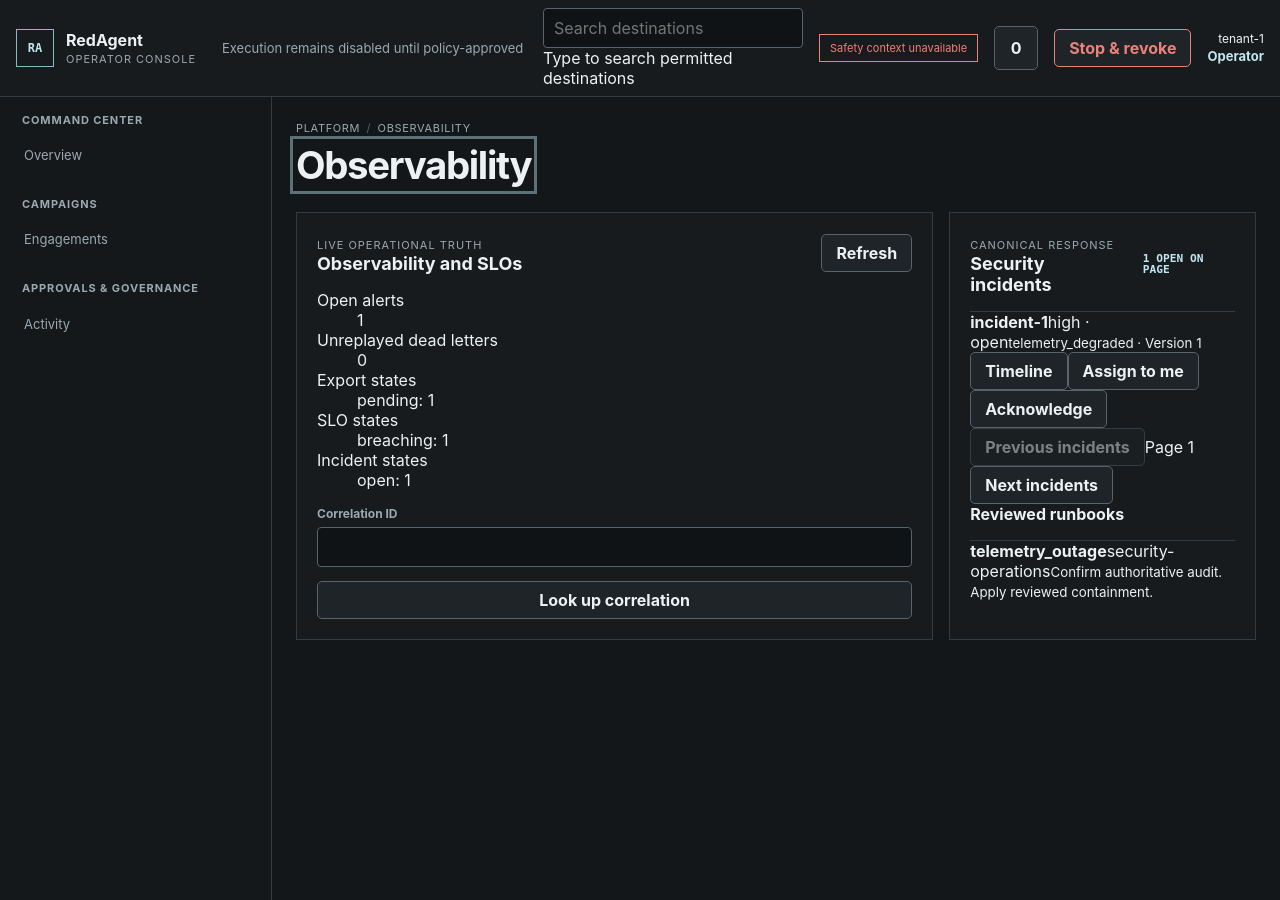
shows SLO/export/incident truth, correlation, timeline, and confirmed acknowledgement
The width and height of the screenshot is (1280, 900).
Expected: the heading "Observability and SLOs" is shown, [317,253,522,274]
Expected: the text "breaching: 1" is shown, [357,430,448,450]
Type "correlation-1" into the field labelled "Correlation ID".
click(615, 547); type("correlation-1")  # box [317,527,912,567]
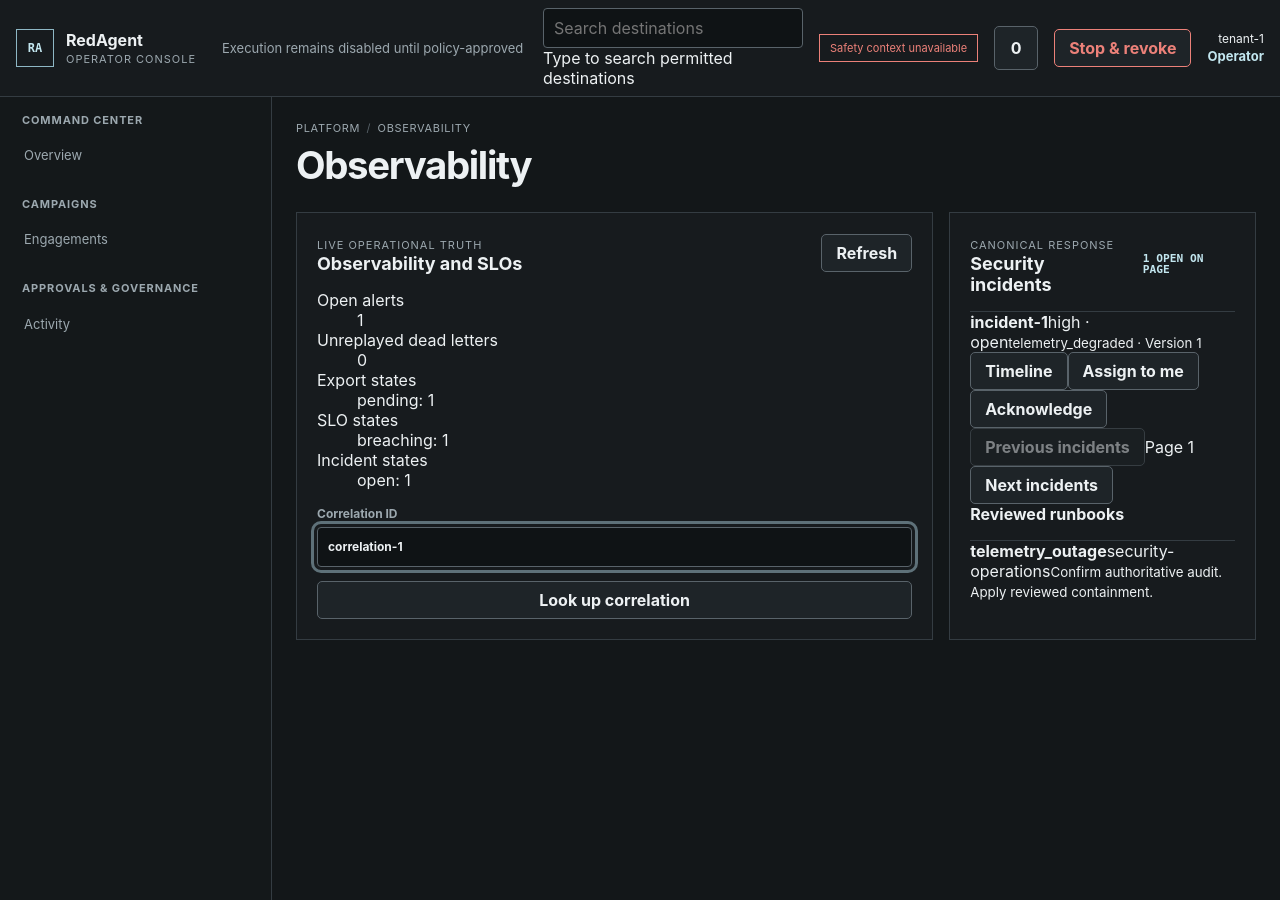
Click the button "Look up correlation".
click(615, 600)  # box [317,581,912,619]
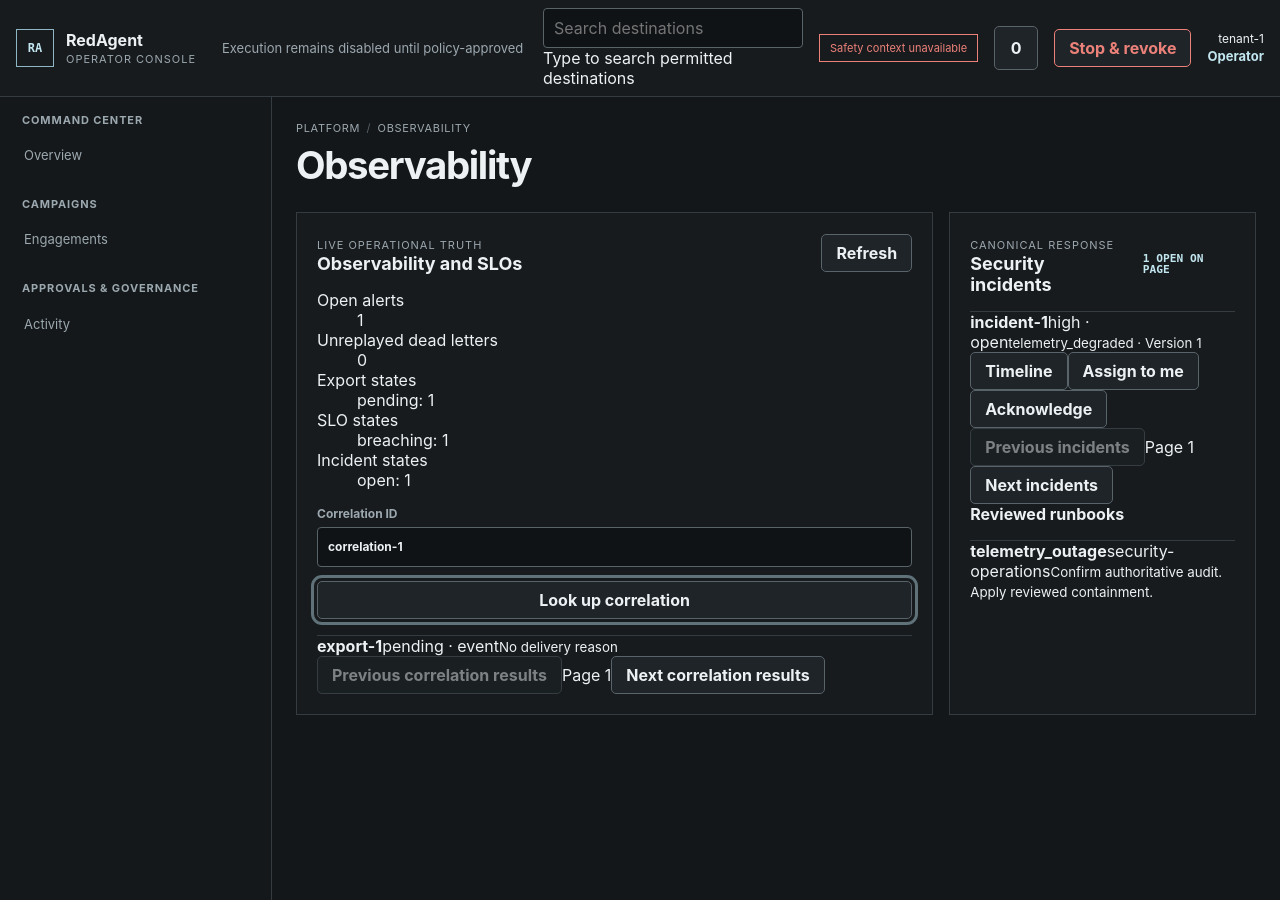
Result: the text "export-1" is shown at [317,636,382,656]
Click the button "Timeline".
click(1019, 371)  # box [970,352,1068,390]
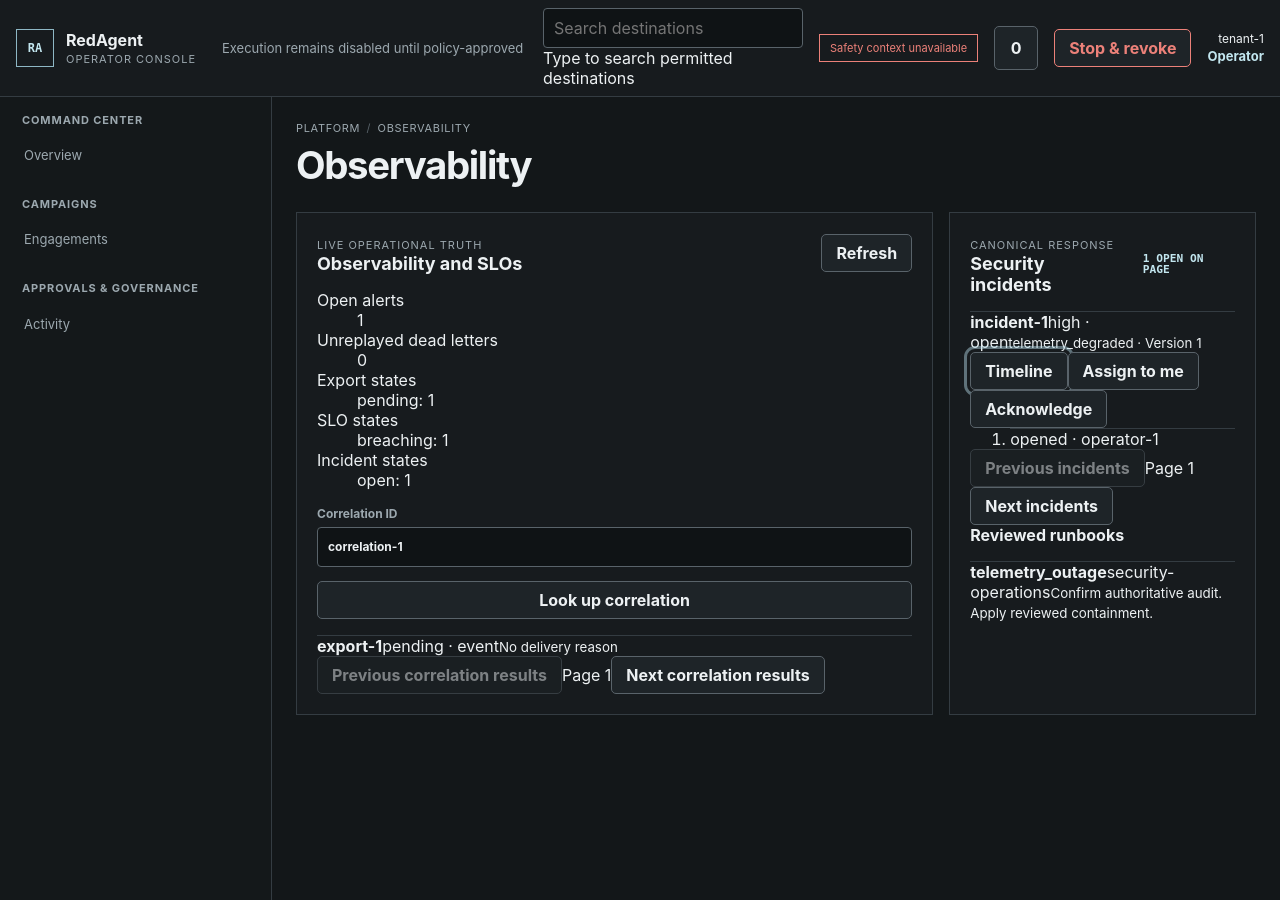
Result: the list item "opened · operator-1" is shown at [1010,428,1235,449]
Click the button "Acknowledge".
click(1039, 409)  # box [970,390,1107,428]
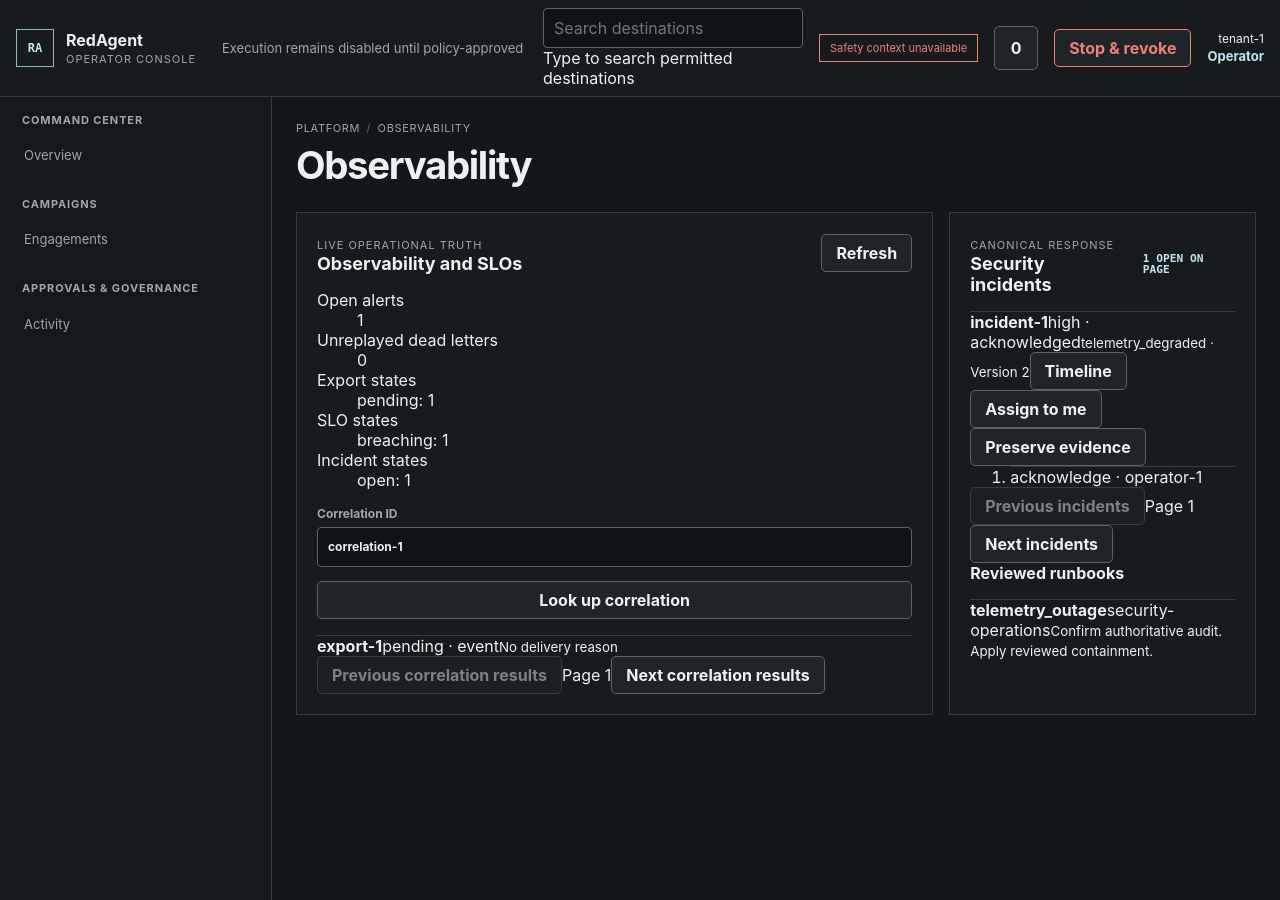
Result: the text "high · acknowledged" is shown at [970,312,1090,352]
Click the button "Next correlation results".
click(718, 675)  # box [611,656,825,694]
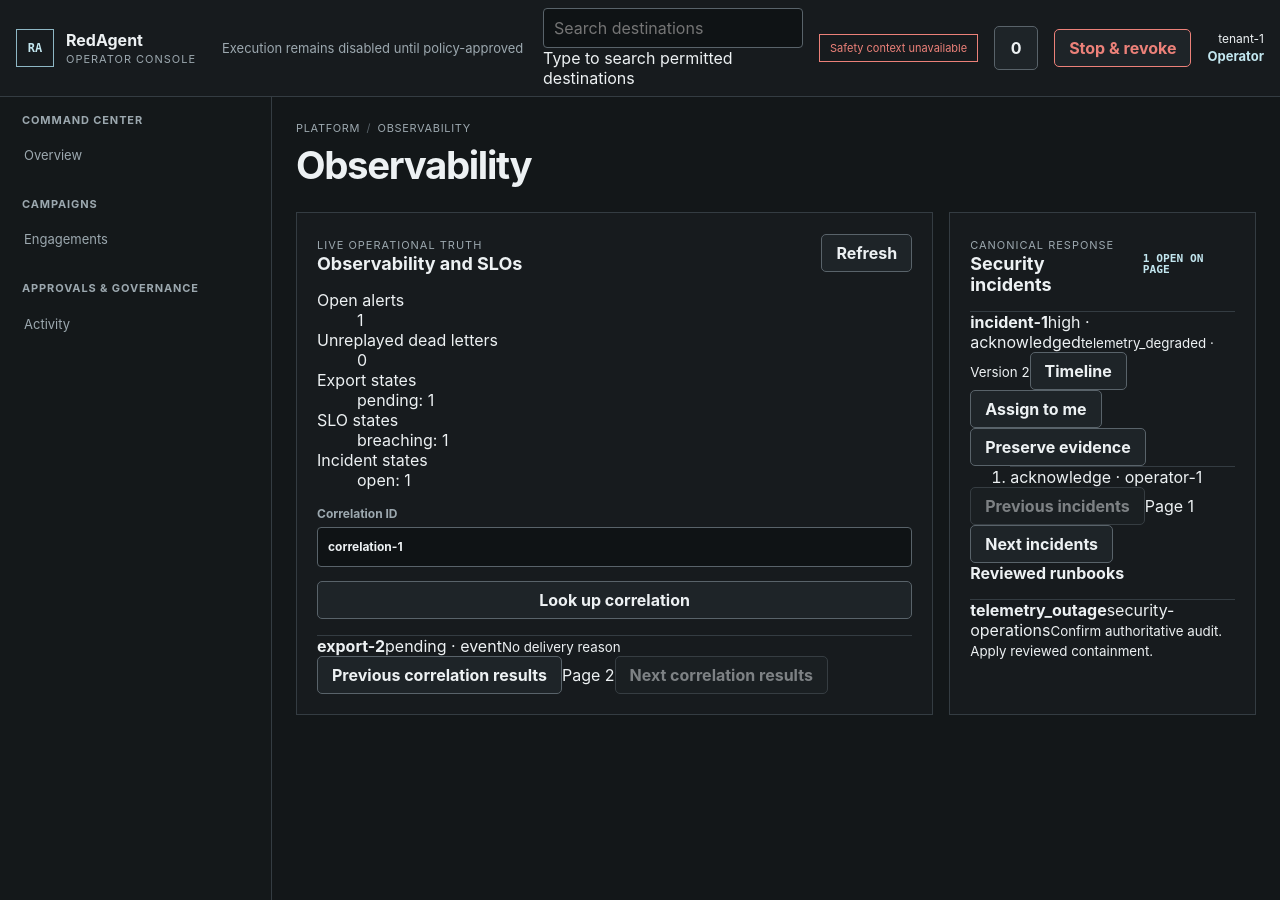
Result: the text "export-2" is shown at [317,636,385,656]
Click the button "Next incidents".
click(1042, 544)  # box [970,525,1113,563]
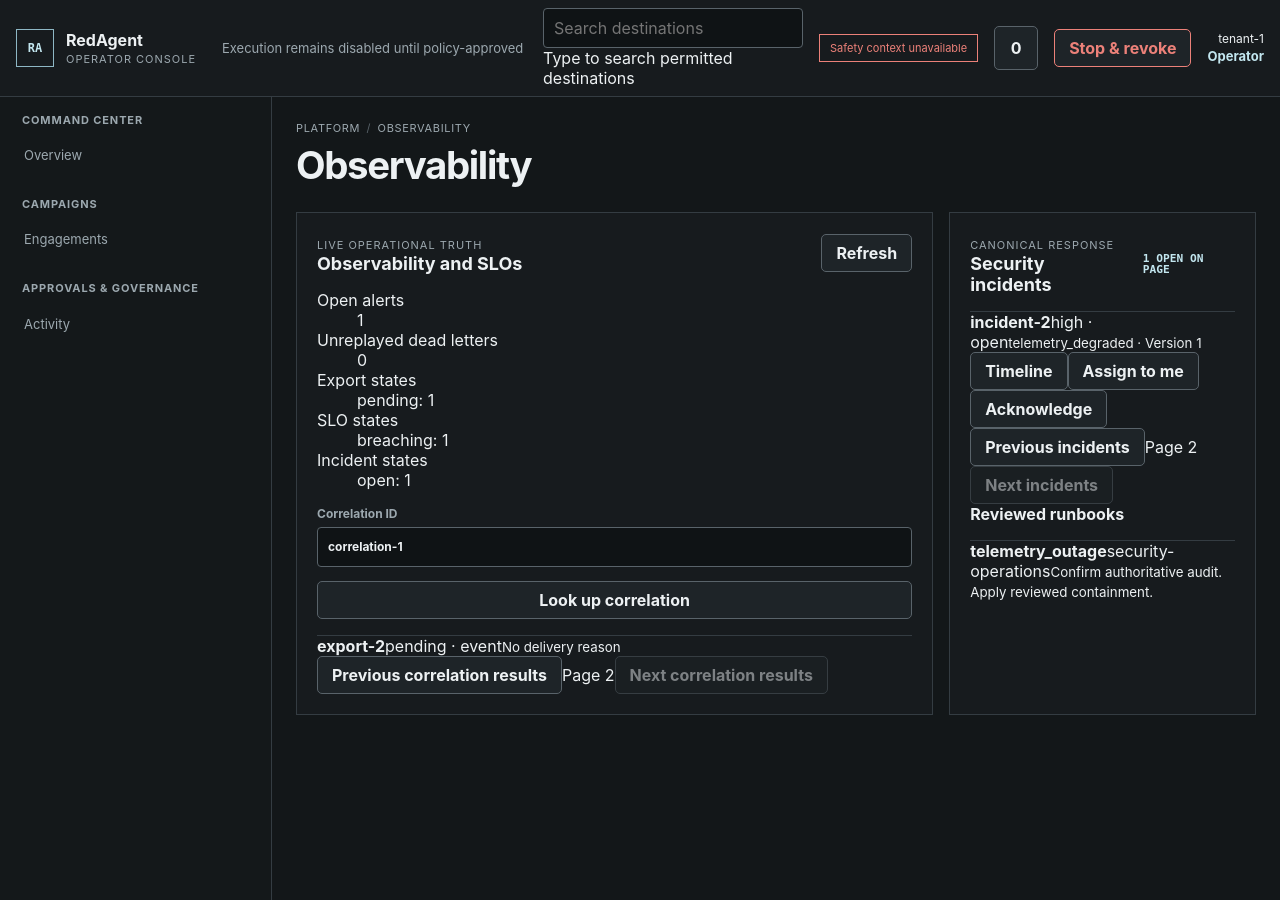
Result: the text "incident-2" is shown at [970,312,1051,332]
